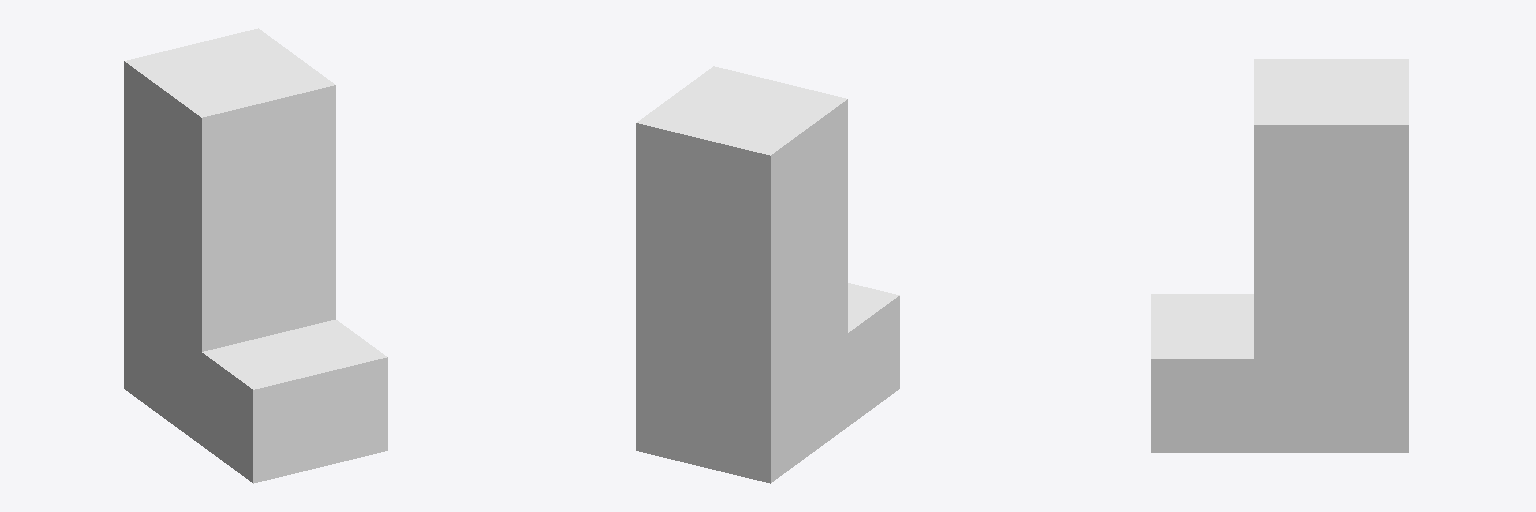
The model's file is Dorry_PL.obj.
3 views of the same model, side by side, from view 1: azimuth 30°, elevation 25°; view 2: azimuth 150°, elevation 25°; view 3: azimuth 270°, elevation 25° (orthographic).
Visible parts, largest first — view 1: object 1; view 2: object 1; view 3: object 1.
Part boxes in pixels (x1,y1,x2,y2): object 1: (124,28,387,483); object 1: (636,66,899,483); object 1: (1151,59,1408,452).
Bounding box in the file's own units: 0.3 × 0.7 × 0.5.